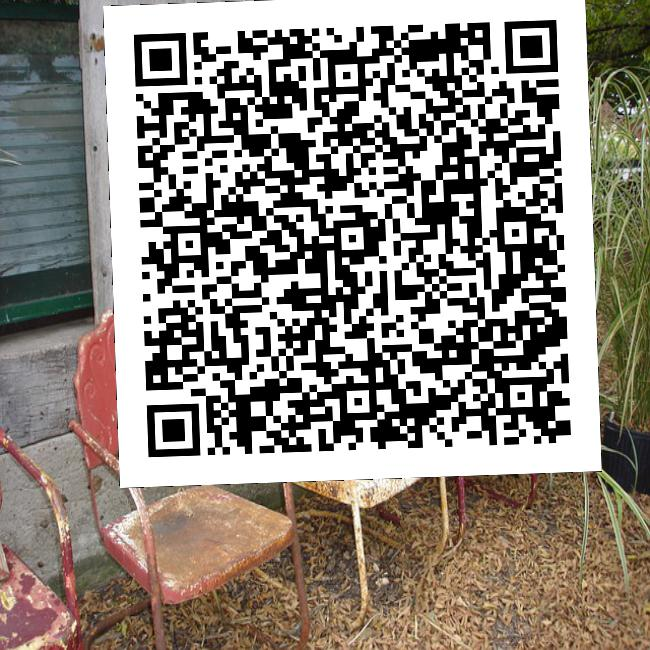qr_code: (103, 0, 601, 492)
